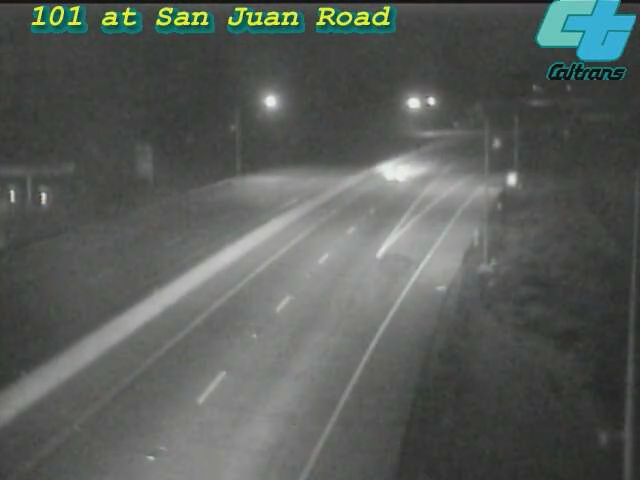vehicle: (358, 131, 438, 211)
